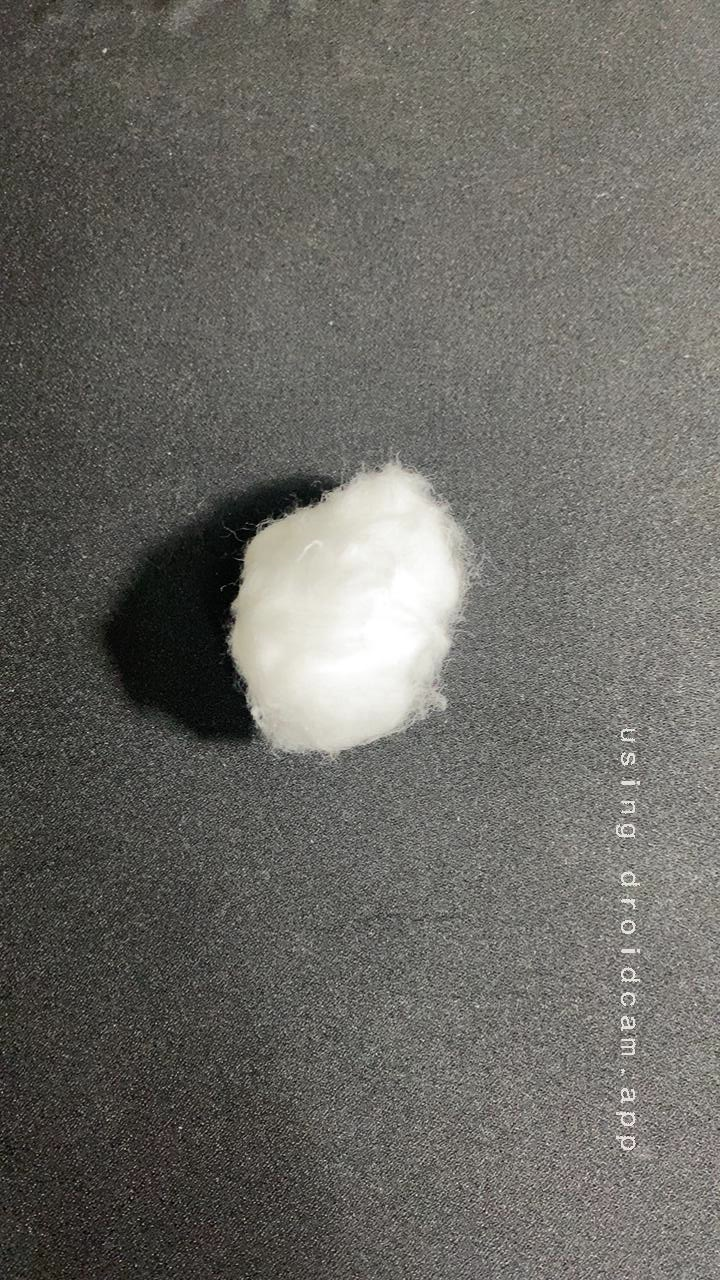cotton: (193, 445, 503, 767)
